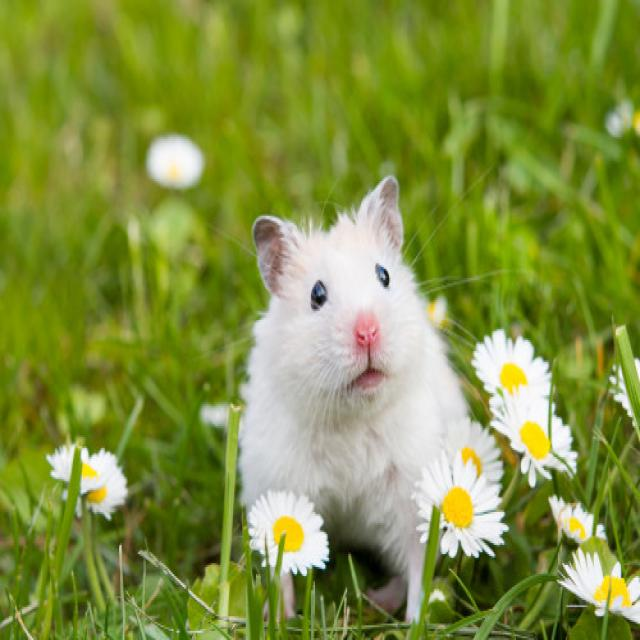hamster: (242, 175, 489, 612)
